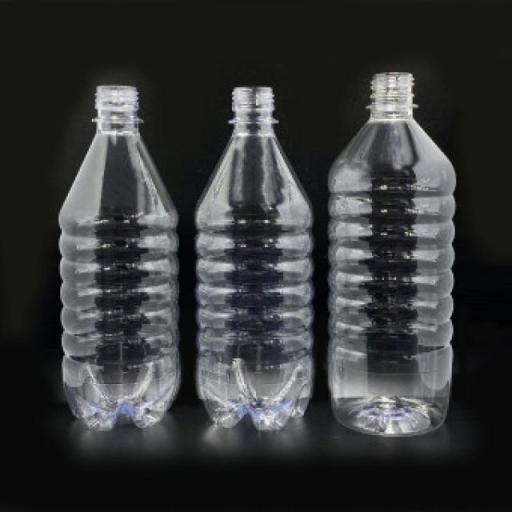plastic: (328, 74, 456, 436), (60, 84, 181, 432), (197, 86, 312, 432)
